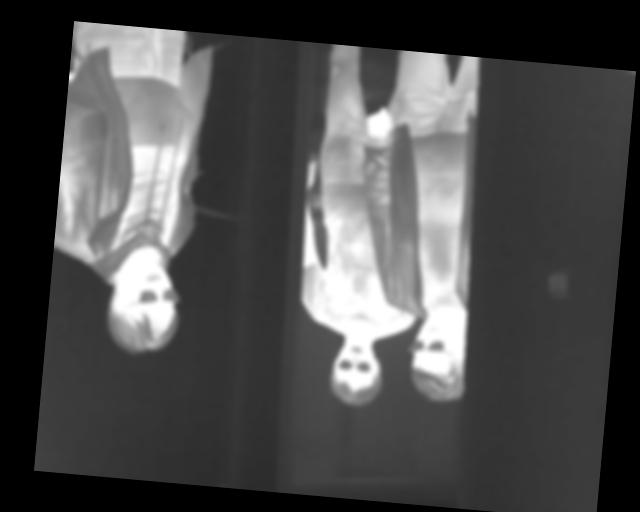face: (103, 259, 181, 359), (406, 309, 470, 404), (327, 334, 384, 409)
